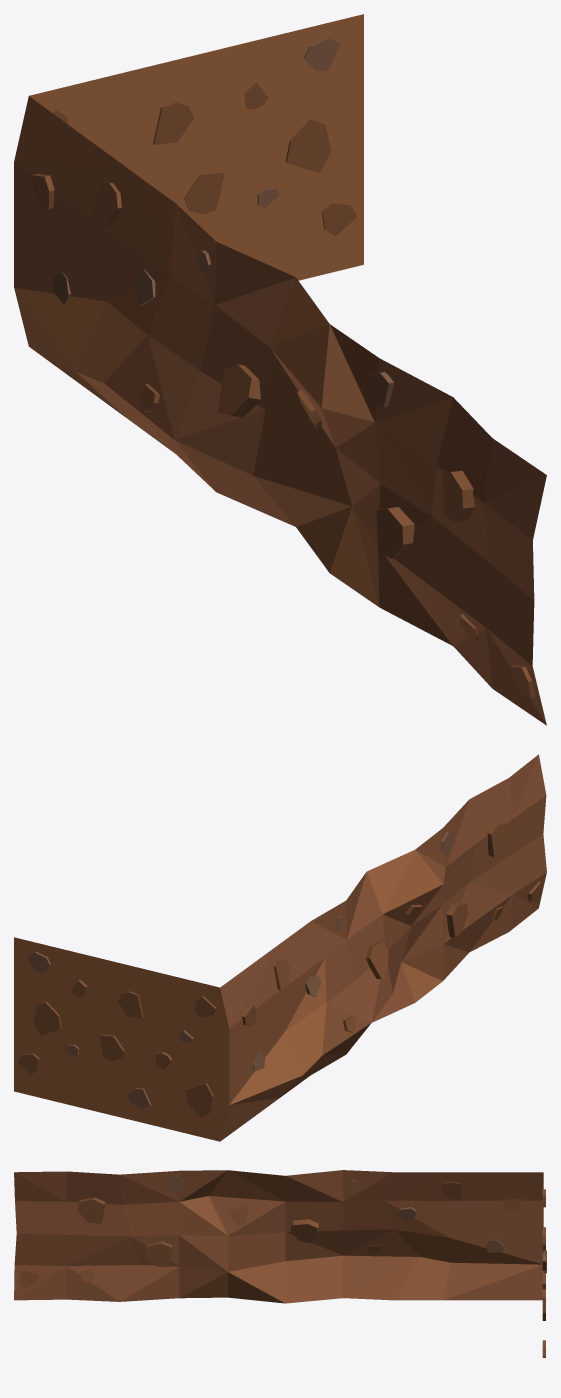
Rendered from ground_side_02.fbx.
3 renders of one model, top to bottom at view 1: azimuth 30°, elevation 25°; view 2: azimuth 150°, elevation 25°; view 3: azimuth 270°, elevation 25°, orthographic. The views are drawn at different scales.
Parts seen in each view (by area): view 1: ground_side_02; view 2: ground_side_02; view 3: ground_side_02.
Boxes of the visible parts, bbox=[...] form: ground_side_02: bbox=[14, 14, 546, 725]; ground_side_02: bbox=[14, 754, 546, 1141]; ground_side_02: bbox=[14, 1170, 546, 1357].
Bounding box in the file's own units: 658 × 408 × 1537.
